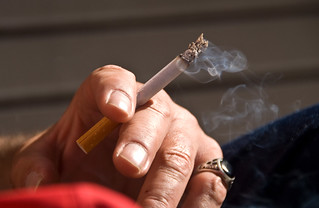cigarette: (74, 31, 210, 156)
